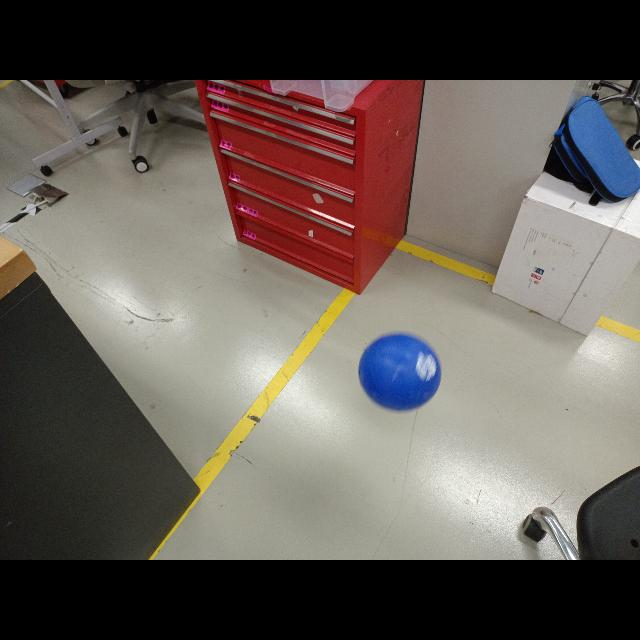B: (355, 334, 441, 410)
